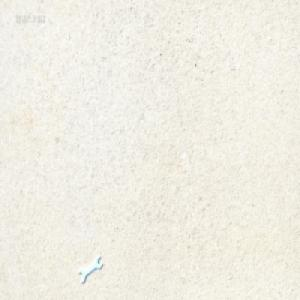Wrench: (78, 255, 103, 283)
